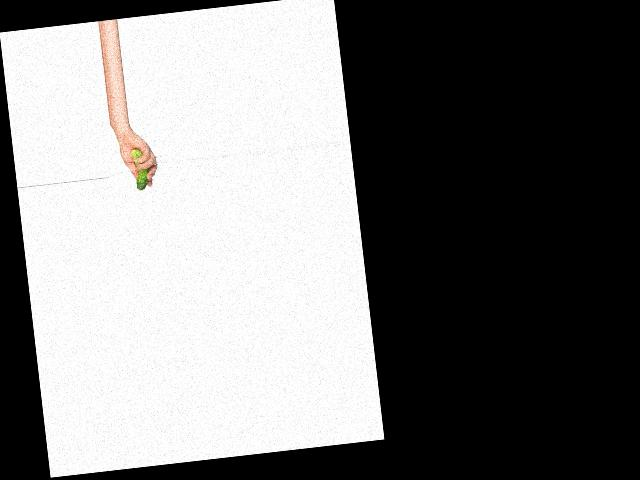cucumber: (131, 147, 151, 190)
